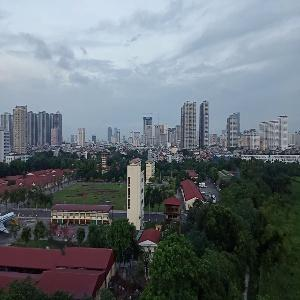drone: (25, 211, 89, 275)
